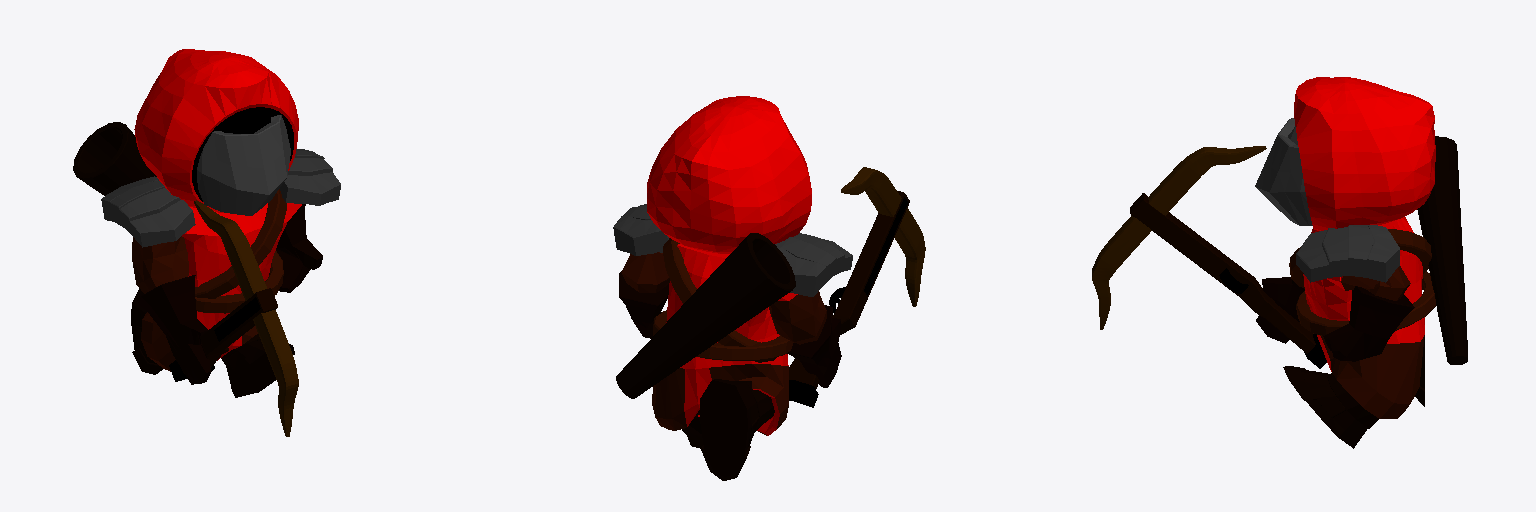
File: RedTeam_Archer_Unit.obj
The picture shows the model from 3 angles: view 1: azimuth 30°, elevation 25°; view 2: azimuth 150°, elevation 25°; view 3: azimuth 270°, elevation 25°; orthographic projection.
Visible parts, largest first — view 1: RedTeam_Acher_Helmet_Cylinder.002, RedTeam_Archer_Cube.001, CrossBow01_Cube.003, RedTeam_Quiver_Archer_Cylinder.003, RedTeam_Archer_Shoulders.R_Cube.014, RedTeam_Archer_Shoulders.L_Cube.002; view 2: RedTeam_Archer_Cube.001, RedTeam_Acher_Helmet_Cylinder.002, RedTeam_Quiver_Archer_Cylinder.003, CrossBow01_Cube.003, RedTeam_Archer_Shoulders.R_Cube.014, RedTeam_Archer_Shoulders.L_Cube.002; view 3: RedTeam_Acher_Helmet_Cylinder.002, RedTeam_Archer_Cube.001, CrossBow01_Cube.003, RedTeam_Quiver_Archer_Cylinder.003, RedTeam_Archer_Shoulders.L_Cube.002.
Boxes of the visible parts, x1,y1,x2,y2 form: RedTeam_Acher_Helmet_Cylinder.002: [134, 49, 298, 215]; RedTeam_Archer_Cube.001: [131, 203, 322, 397]; CrossBow01_Cube.003: [169, 200, 298, 436]; RedTeam_Quiver_Archer_Cylinder.003: [73, 122, 286, 313]; RedTeam_Archer_Shoulders.R_Cube.014: [101, 176, 195, 247]; RedTeam_Archer_Shoulders.L_Cube.002: [280, 149, 340, 205]; RedTeam_Archer_Cube.001: [619, 244, 841, 480]; RedTeam_Acher_Helmet_Cylinder.002: [647, 96, 811, 253]; RedTeam_Quiver_Archer_Cylinder.003: [616, 233, 795, 398]; CrossBow01_Cube.003: [789, 167, 925, 407]; RedTeam_Archer_Shoulders.R_Cube.014: [775, 233, 852, 296]; RedTeam_Archer_Shoulders.L_Cube.002: [613, 204, 668, 255]; RedTeam_Acher_Helmet_Cylinder.002: [1255, 77, 1435, 230]; RedTeam_Archer_Cube.001: [1256, 217, 1424, 448]; CrossBow01_Cube.003: [1092, 146, 1326, 368]; RedTeam_Quiver_Archer_Cylinder.003: [1289, 136, 1467, 364]; RedTeam_Archer_Shoulders.L_Cube.002: [1296, 225, 1399, 282].
Bounding box in the file's own units: 1.11 × 1.79 × 1.76.